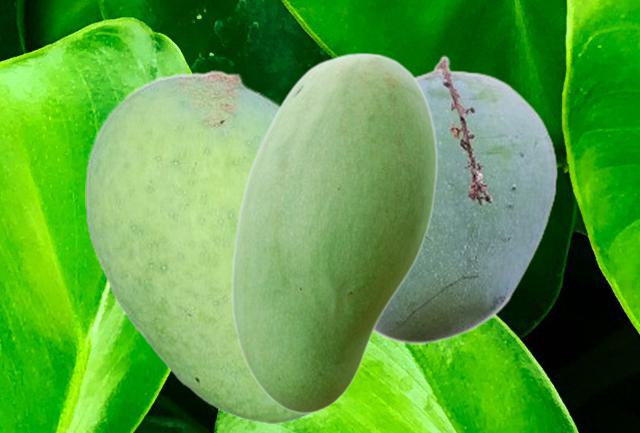green_mango: (85, 69, 372, 422), (230, 52, 436, 413), (374, 55, 557, 343)
